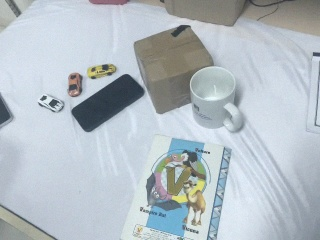book: (114, 135, 235, 240)
box: (133, 23, 216, 116), (161, 1, 250, 27)
cup: (188, 66, 243, 132)
phone: (71, 73, 145, 133)
toy_car: (37, 93, 65, 113), (87, 63, 117, 79), (67, 73, 83, 97)
